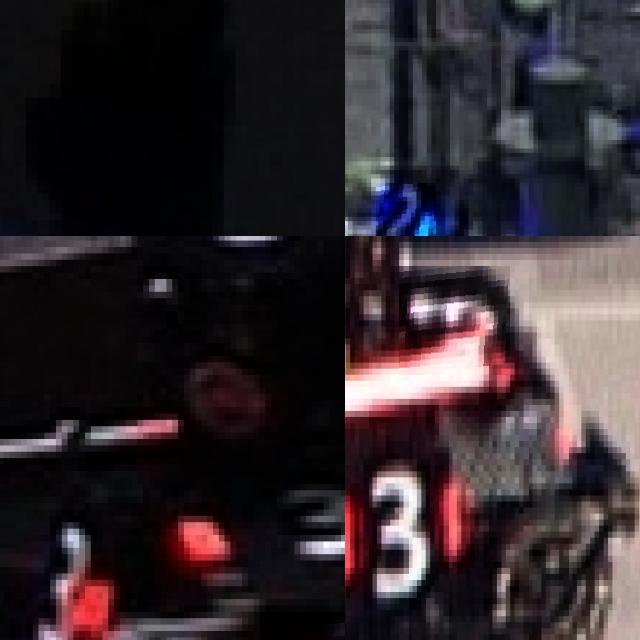B2: (375, 182, 436, 236)
R3: (166, 464, 345, 586), (345, 453, 474, 604), (399, 266, 510, 375), (32, 503, 114, 640)
